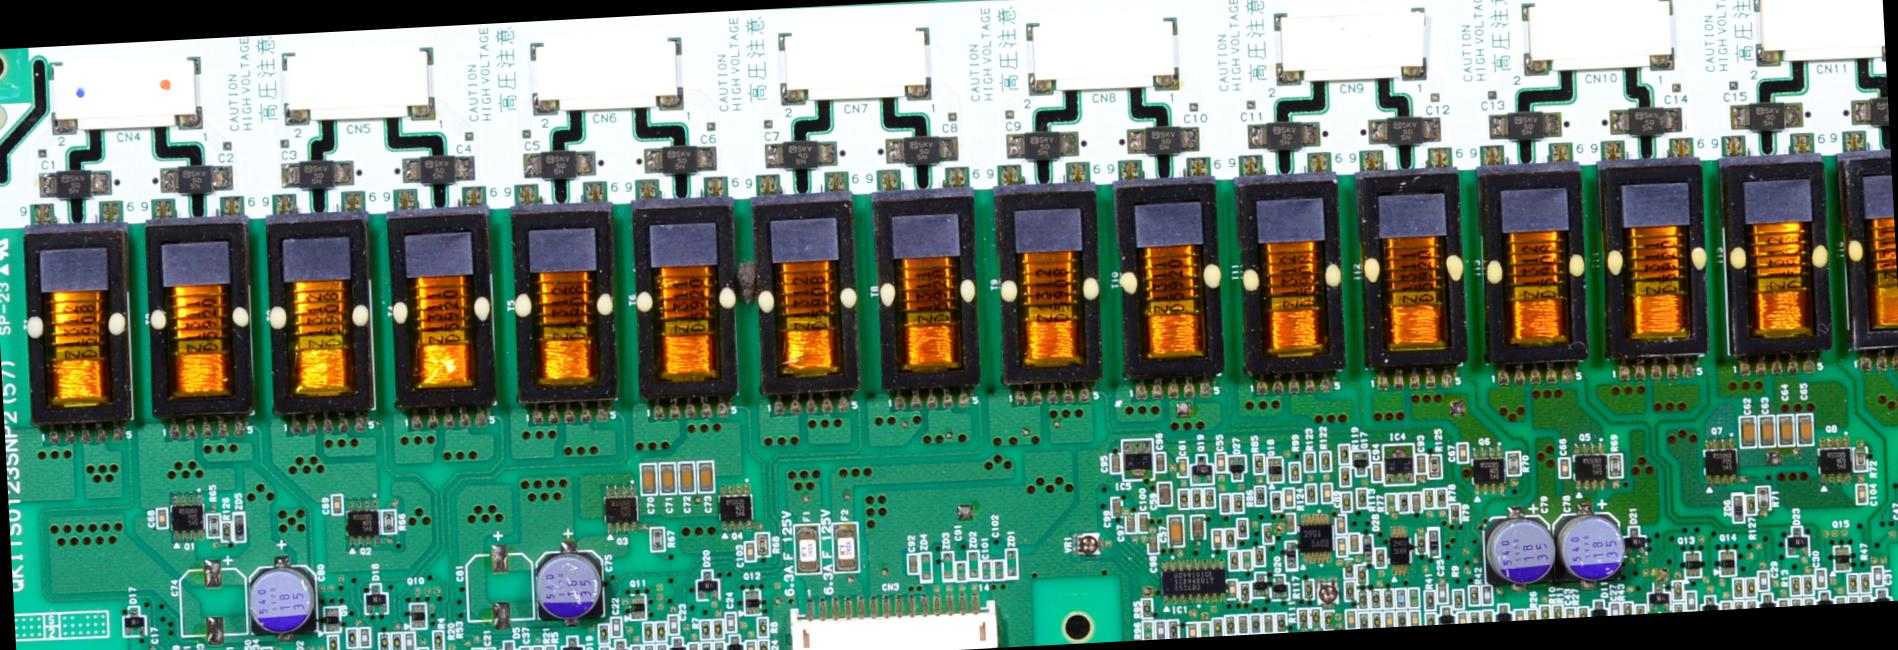Capacitor Jumper: (1485, 517, 1555, 587), (248, 564, 316, 637), (536, 550, 604, 621), (1557, 512, 1624, 583), (490, 545, 510, 632), (206, 559, 222, 645), (695, 460, 714, 491), (1794, 414, 1812, 447), (658, 462, 677, 494), (638, 464, 656, 495), (677, 462, 695, 494), (1738, 415, 1755, 448), (1777, 414, 1794, 447), (1168, 514, 1185, 546), (1758, 415, 1775, 445), (1189, 513, 1206, 540), (1157, 481, 1171, 505), (207, 514, 220, 536), (609, 616, 622, 638), (1455, 443, 1469, 462), (1436, 581, 1448, 604), (1177, 455, 1189, 477), (724, 611, 736, 633), (1758, 570, 1770, 592), (156, 508, 168, 529), (743, 541, 755, 562), (1334, 514, 1346, 535), (905, 553, 918, 574), (1154, 619, 1166, 639), (1415, 453, 1426, 474), (1109, 453, 1121, 472), (1334, 536, 1346, 556), (1814, 569, 1827, 588), (1685, 592, 1697, 611), (1408, 610, 1422, 626), (1154, 451, 1164, 472), (1214, 453, 1225, 473), (1856, 484, 1867, 505), (1348, 533, 1359, 553), (980, 560, 991, 581), (668, 615, 679, 635), (1873, 566, 1883, 587), (220, 519, 230, 541), (1558, 458, 1569, 477), (1321, 483, 1332, 502), (1283, 488, 1294, 507), (1125, 514, 1135, 534), (993, 562, 1003, 581), (1185, 621, 1198, 637), (1382, 610, 1394, 627), (332, 494, 341, 514), (1110, 497, 1121, 516), (1219, 494, 1230, 512), (1346, 610, 1357, 628), (1371, 462, 1381, 482), (1146, 534, 1156, 553), (1606, 602, 1620, 615), (1210, 530, 1220, 548), (954, 563, 964, 581), (1225, 580, 1235, 598), (1455, 611, 1468, 623), (1563, 606, 1576, 617), (1139, 514, 1148, 530), (1513, 608, 1524, 620), (744, 640, 757, 649), (1720, 602, 1731, 610), (1778, 598, 1789, 606), (1835, 596, 1846, 603), (689, 642, 698, 649), (629, 645, 642, 649), (519, 645, 530, 649)
Connector: (789, 587, 1000, 649)
IC: (1162, 558, 1225, 602), (1296, 512, 1334, 563), (1382, 443, 1414, 485), (1390, 527, 1413, 575)
Resistor Jumper: (380, 508, 397, 535), (649, 525, 665, 552), (753, 533, 770, 557), (1607, 455, 1623, 478), (1756, 485, 1770, 512), (1505, 451, 1519, 476), (1853, 448, 1868, 472), (1254, 485, 1267, 507), (431, 629, 445, 649), (1275, 612, 1288, 633), (1288, 461, 1300, 483), (1202, 487, 1214, 508), (1189, 488, 1201, 510), (1374, 547, 1386, 569), (1302, 579, 1315, 600), (712, 619, 724, 640), (1424, 589, 1436, 611), (1801, 574, 1813, 596), (1309, 608, 1321, 629), (1140, 598, 1154, 617), (1453, 587, 1463, 610), (1338, 444, 1350, 465), (1339, 466, 1351, 487), (1744, 494, 1756, 514), (1341, 558, 1353, 579), (597, 625, 609, 645), (655, 621, 667, 642), (698, 619, 711, 639), (1789, 575, 1801, 596), (1846, 573, 1858, 593), (1369, 610, 1384, 627), (1672, 580, 1683, 602), (1302, 453, 1315, 472), (1270, 491, 1282, 511), (1227, 551, 1240, 570), (757, 619, 769, 638), (1357, 589, 1369, 609), (1731, 579, 1743, 598), (1249, 614, 1261, 633), (376, 633, 391, 649), (1177, 489, 1187, 510), (1305, 483, 1316, 504), (1422, 488, 1433, 508), (1263, 523, 1273, 543), (346, 627, 357, 648), (642, 621, 652, 642), (1468, 585, 1479, 605), (1342, 582, 1355, 600), (1436, 488, 1446, 507), (1237, 518, 1248, 537), (1224, 528, 1235, 547), (1141, 620, 1152, 639), (1357, 611, 1369, 628), (1382, 589, 1393, 608), (1744, 579, 1755, 597), (1298, 609, 1309, 627), (326, 634, 339, 649), (390, 633, 402, 649), (1552, 603, 1564, 619), (1253, 454, 1263, 473), (1356, 488, 1365, 507), (1341, 491, 1351, 511), (1240, 582, 1249, 602), (1370, 591, 1380, 610), (1860, 574, 1870, 593), (1323, 610, 1333, 629), (1355, 566, 1365, 583), (1232, 494, 1242, 512), (1385, 495, 1394, 513), (1538, 604, 1551, 619), (1225, 615, 1233, 635), (1450, 504, 1459, 523), (1168, 619, 1177, 638), (1213, 619, 1223, 635), (1467, 610, 1480, 622), (1321, 450, 1329, 468), (1254, 546, 1263, 564), (1425, 612, 1437, 625), (1482, 610, 1495, 621), (1622, 603, 1633, 615), (1577, 606, 1589, 616), (1673, 602, 1684, 611), (1635, 604, 1646, 614), (757, 640, 769, 649), (1745, 599, 1758, 608), (1526, 609, 1536, 619), (1733, 600, 1744, 609), (700, 642, 712, 649), (714, 642, 726, 649), (656, 643, 669, 649), (1859, 596, 1873, 602), (1847, 597, 1860, 603), (1801, 598, 1812, 605), (1790, 598, 1801, 605), (543, 644, 556, 649), (644, 645, 656, 649), (533, 645, 543, 649)
Transistor: (603, 482, 639, 534), (169, 490, 205, 543), (717, 481, 753, 530), (1469, 444, 1505, 495), (1817, 436, 1853, 484), (1572, 439, 1605, 489), (345, 497, 378, 546), (1704, 437, 1736, 487), (1122, 438, 1154, 481), (737, 583, 765, 615), (1187, 451, 1214, 484), (1249, 571, 1271, 598), (1269, 573, 1289, 599), (1831, 545, 1851, 573), (1683, 551, 1701, 579), (1716, 550, 1736, 575), (322, 605, 340, 632), (628, 593, 646, 620), (409, 602, 426, 629), (1266, 458, 1283, 483)
